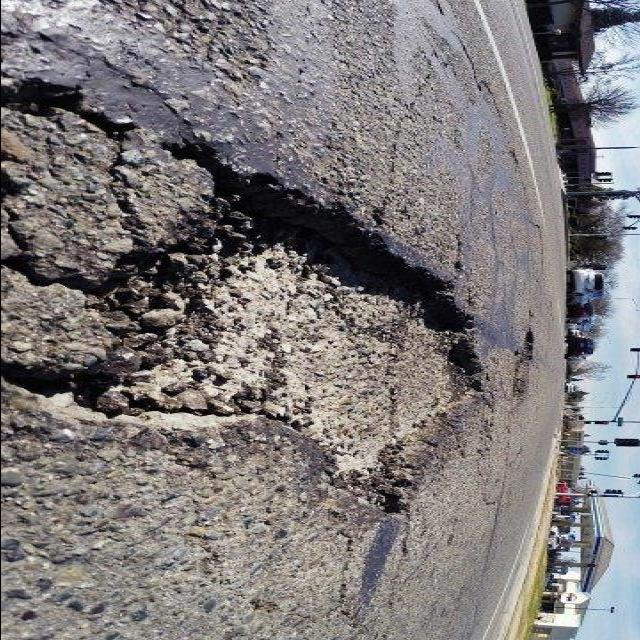lubang: (52, 175, 490, 527)
